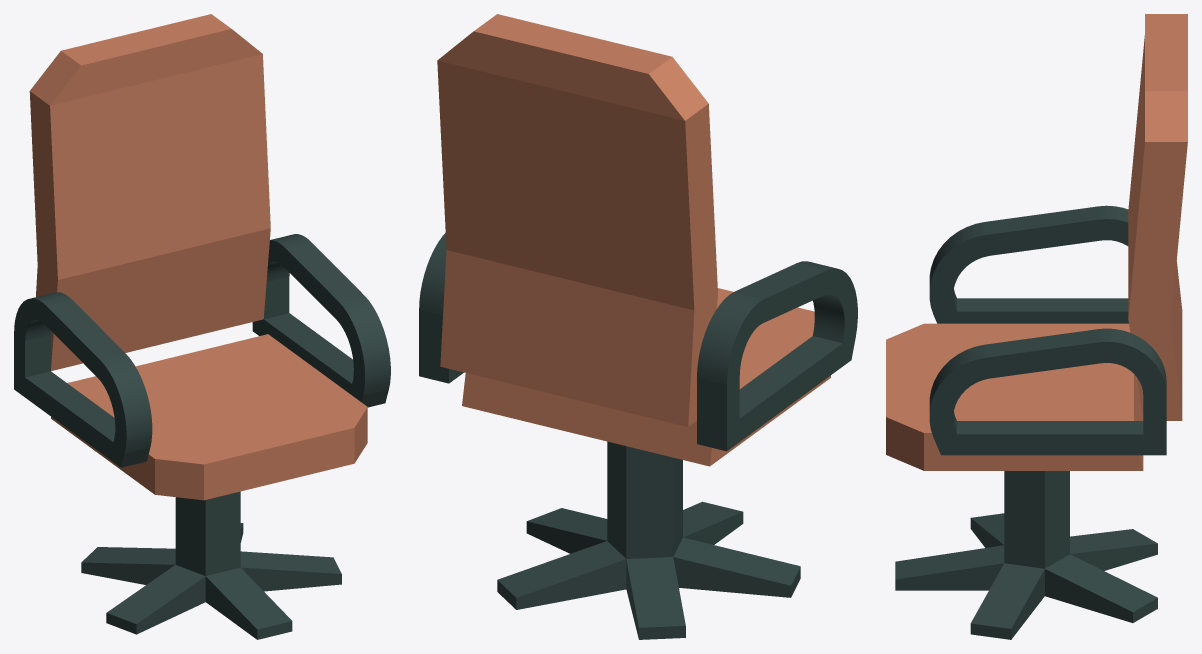
The model's file is chair-desk-v1.glb.
3 renders of one model, left to right at view 1: azimuth 30°, elevation 25°; view 2: azimuth 150°, elevation 25°; view 3: azimuth 270°, elevation 25°, orthographic. The views are drawn at different scales.
Parts seen in each view (by area): view 1: chair, chairDesk(Clone); view 2: chair, chairDesk(Clone); view 3: chair, chairDesk(Clone).
Part boxes in pixels (box(x1,y1,x2,y2)): chair: box(14, 14, 390, 500); chairDesk(Clone): box(81, 491, 341, 639); chair: box(419, 14, 857, 466); chairDesk(Clone): box(497, 441, 800, 639); chair: box(886, 14, 1187, 470); chairDesk(Clone): box(895, 471, 1157, 639).
Size of the model in its own units: 0.6699 by 1.22 by 0.6286.
